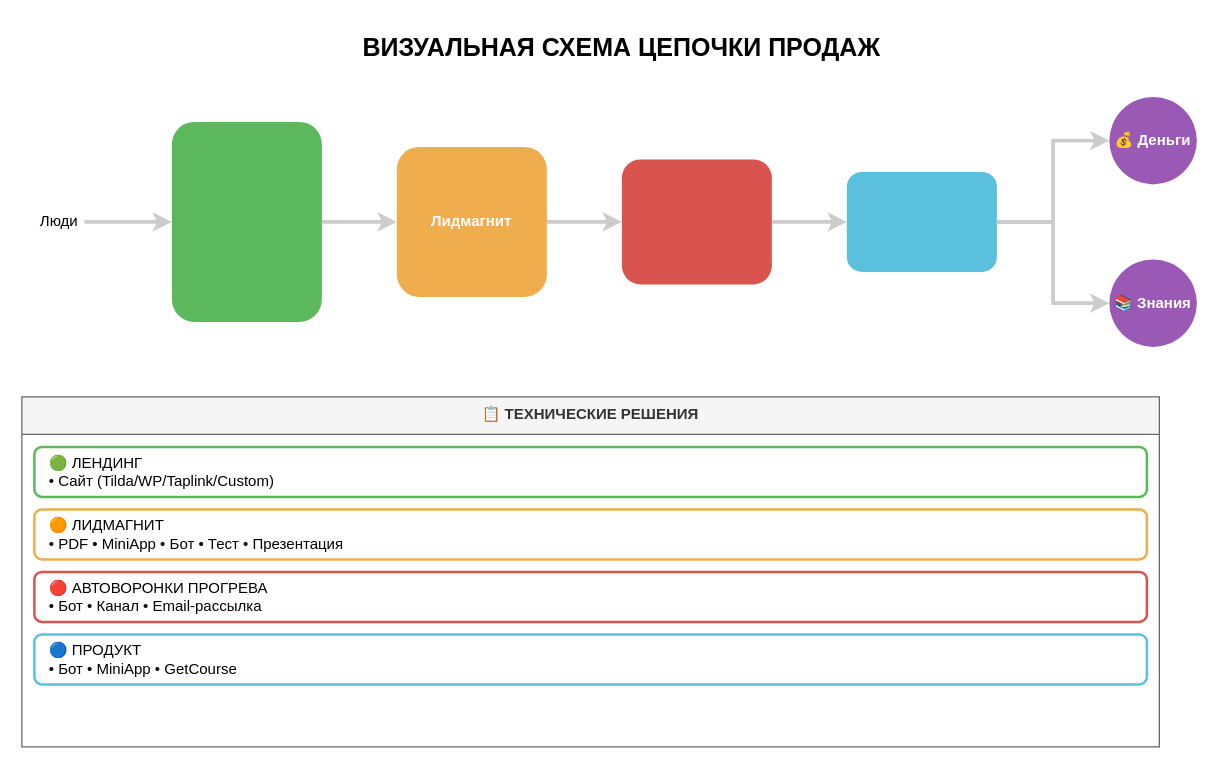
Image size: 1219x769. Some labels were removed from this diagram. Each missing label, with the centre of its shape:
"Автоворонки" goes at [696,221].
"Лендинг (Высокий трафик)" goes at [246,221].
"Продукт" goes at [921,221].
